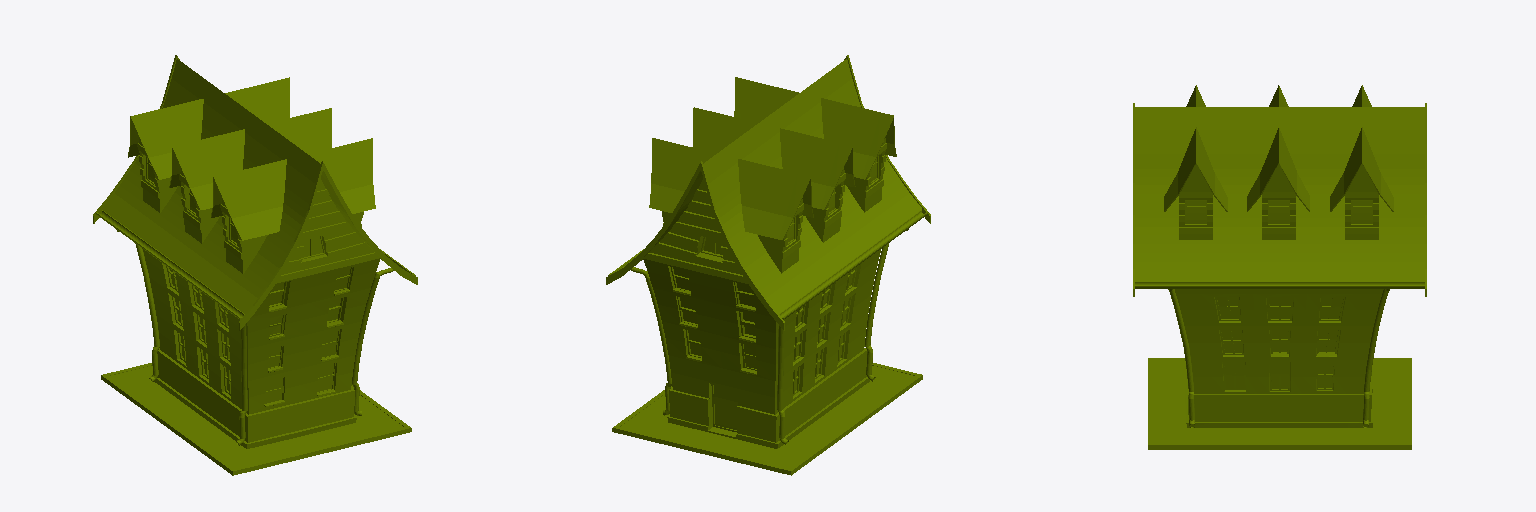
Rendered from house.obj.
3 renders of one model, left to right at view 1: azimuth 30°, elevation 25°; view 2: azimuth 150°, elevation 25°; view 3: azimuth 270°, elevation 25°, orthographic.
Parts seen in each view (by area): view 1: Cartoon_House; view 2: Cartoon_House; view 3: Cartoon_House.
Part boxes in pixels (x1,y1,x2,y2): Cartoon_House: (93, 55, 417, 475); Cartoon_House: (606, 55, 930, 475); Cartoon_House: (1133, 85, 1426, 449).
Bounding box in the file's own units: 0.9088 × 1.45 × 1.29.